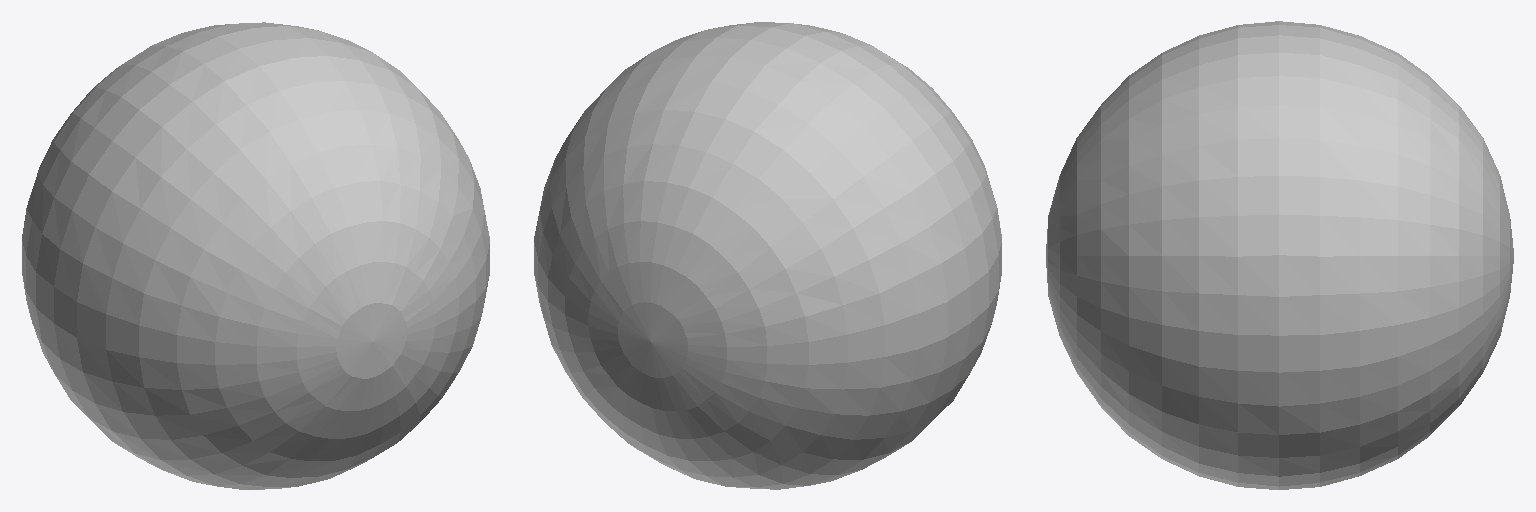
Rendered from Vil_Right_Eye.obj.
3 renders of one model, left to right at view 1: azimuth 30°, elevation 25°; view 2: azimuth 150°, elevation 25°; view 3: azimuth 270°, elevation 25°, orthographic.
Parts seen in each view (by area): view 1: obj_0; view 2: obj_0; view 3: obj_0.
Part boxes in pixels (x1,y1,x2,y2): obj_0: (22, 22, 489, 489); obj_0: (534, 22, 1001, 489); obj_0: (1046, 21, 1513, 489).
Size of the model in its own units: 0.332 by 0.332 by 0.333.